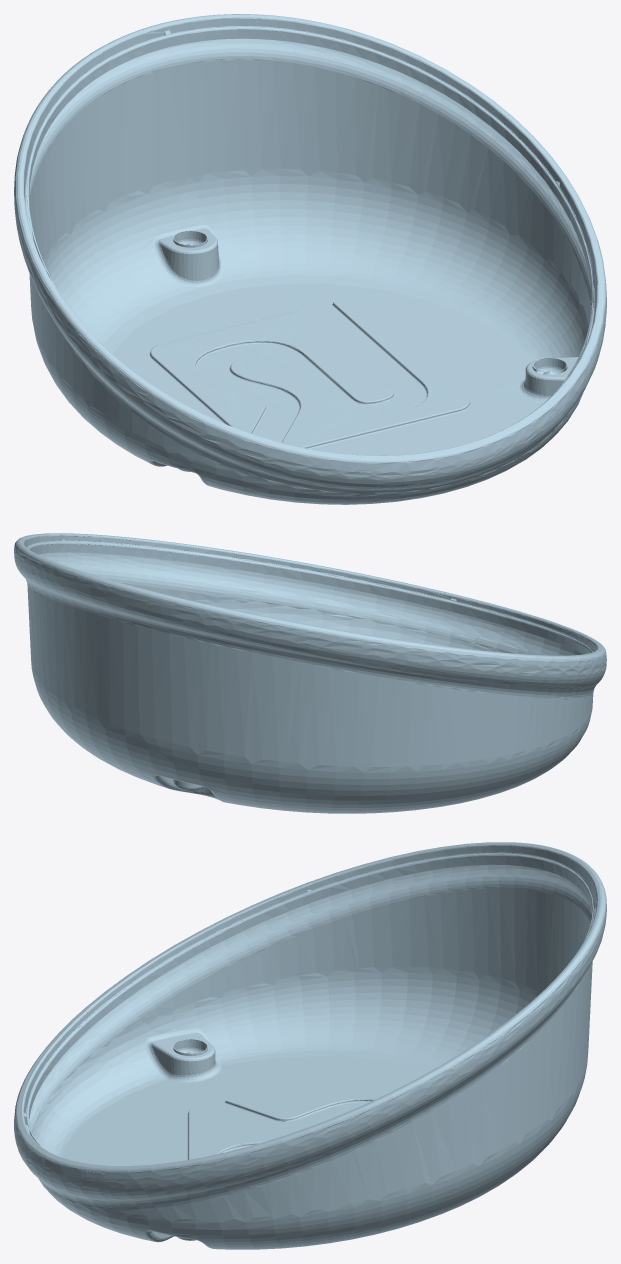
Rendered from wrist1_1.dae.
The picture shows the model from 3 angles, top to bottom: view 1: azimuth 30°, elevation 25°; view 2: azimuth 150°, elevation 25°; view 3: azimuth 270°, elevation 25°; orthographic projection.
Visible parts, largest first — view 1: eSeries_UR10e_021; view 2: eSeries_UR10e_021; view 3: eSeries_UR10e_021.
Part boxes in pixels (left/top/right/bottom): eSeries_UR10e_021: left=14, top=14, right=606, bottom=504; eSeries_UR10e_021: left=14, top=533, right=606, bottom=813; eSeries_UR10e_021: left=14, top=842, right=606, bottom=1249.
Bounding box in the file's own units: 0.094 × 0.094 × 0.0471.
